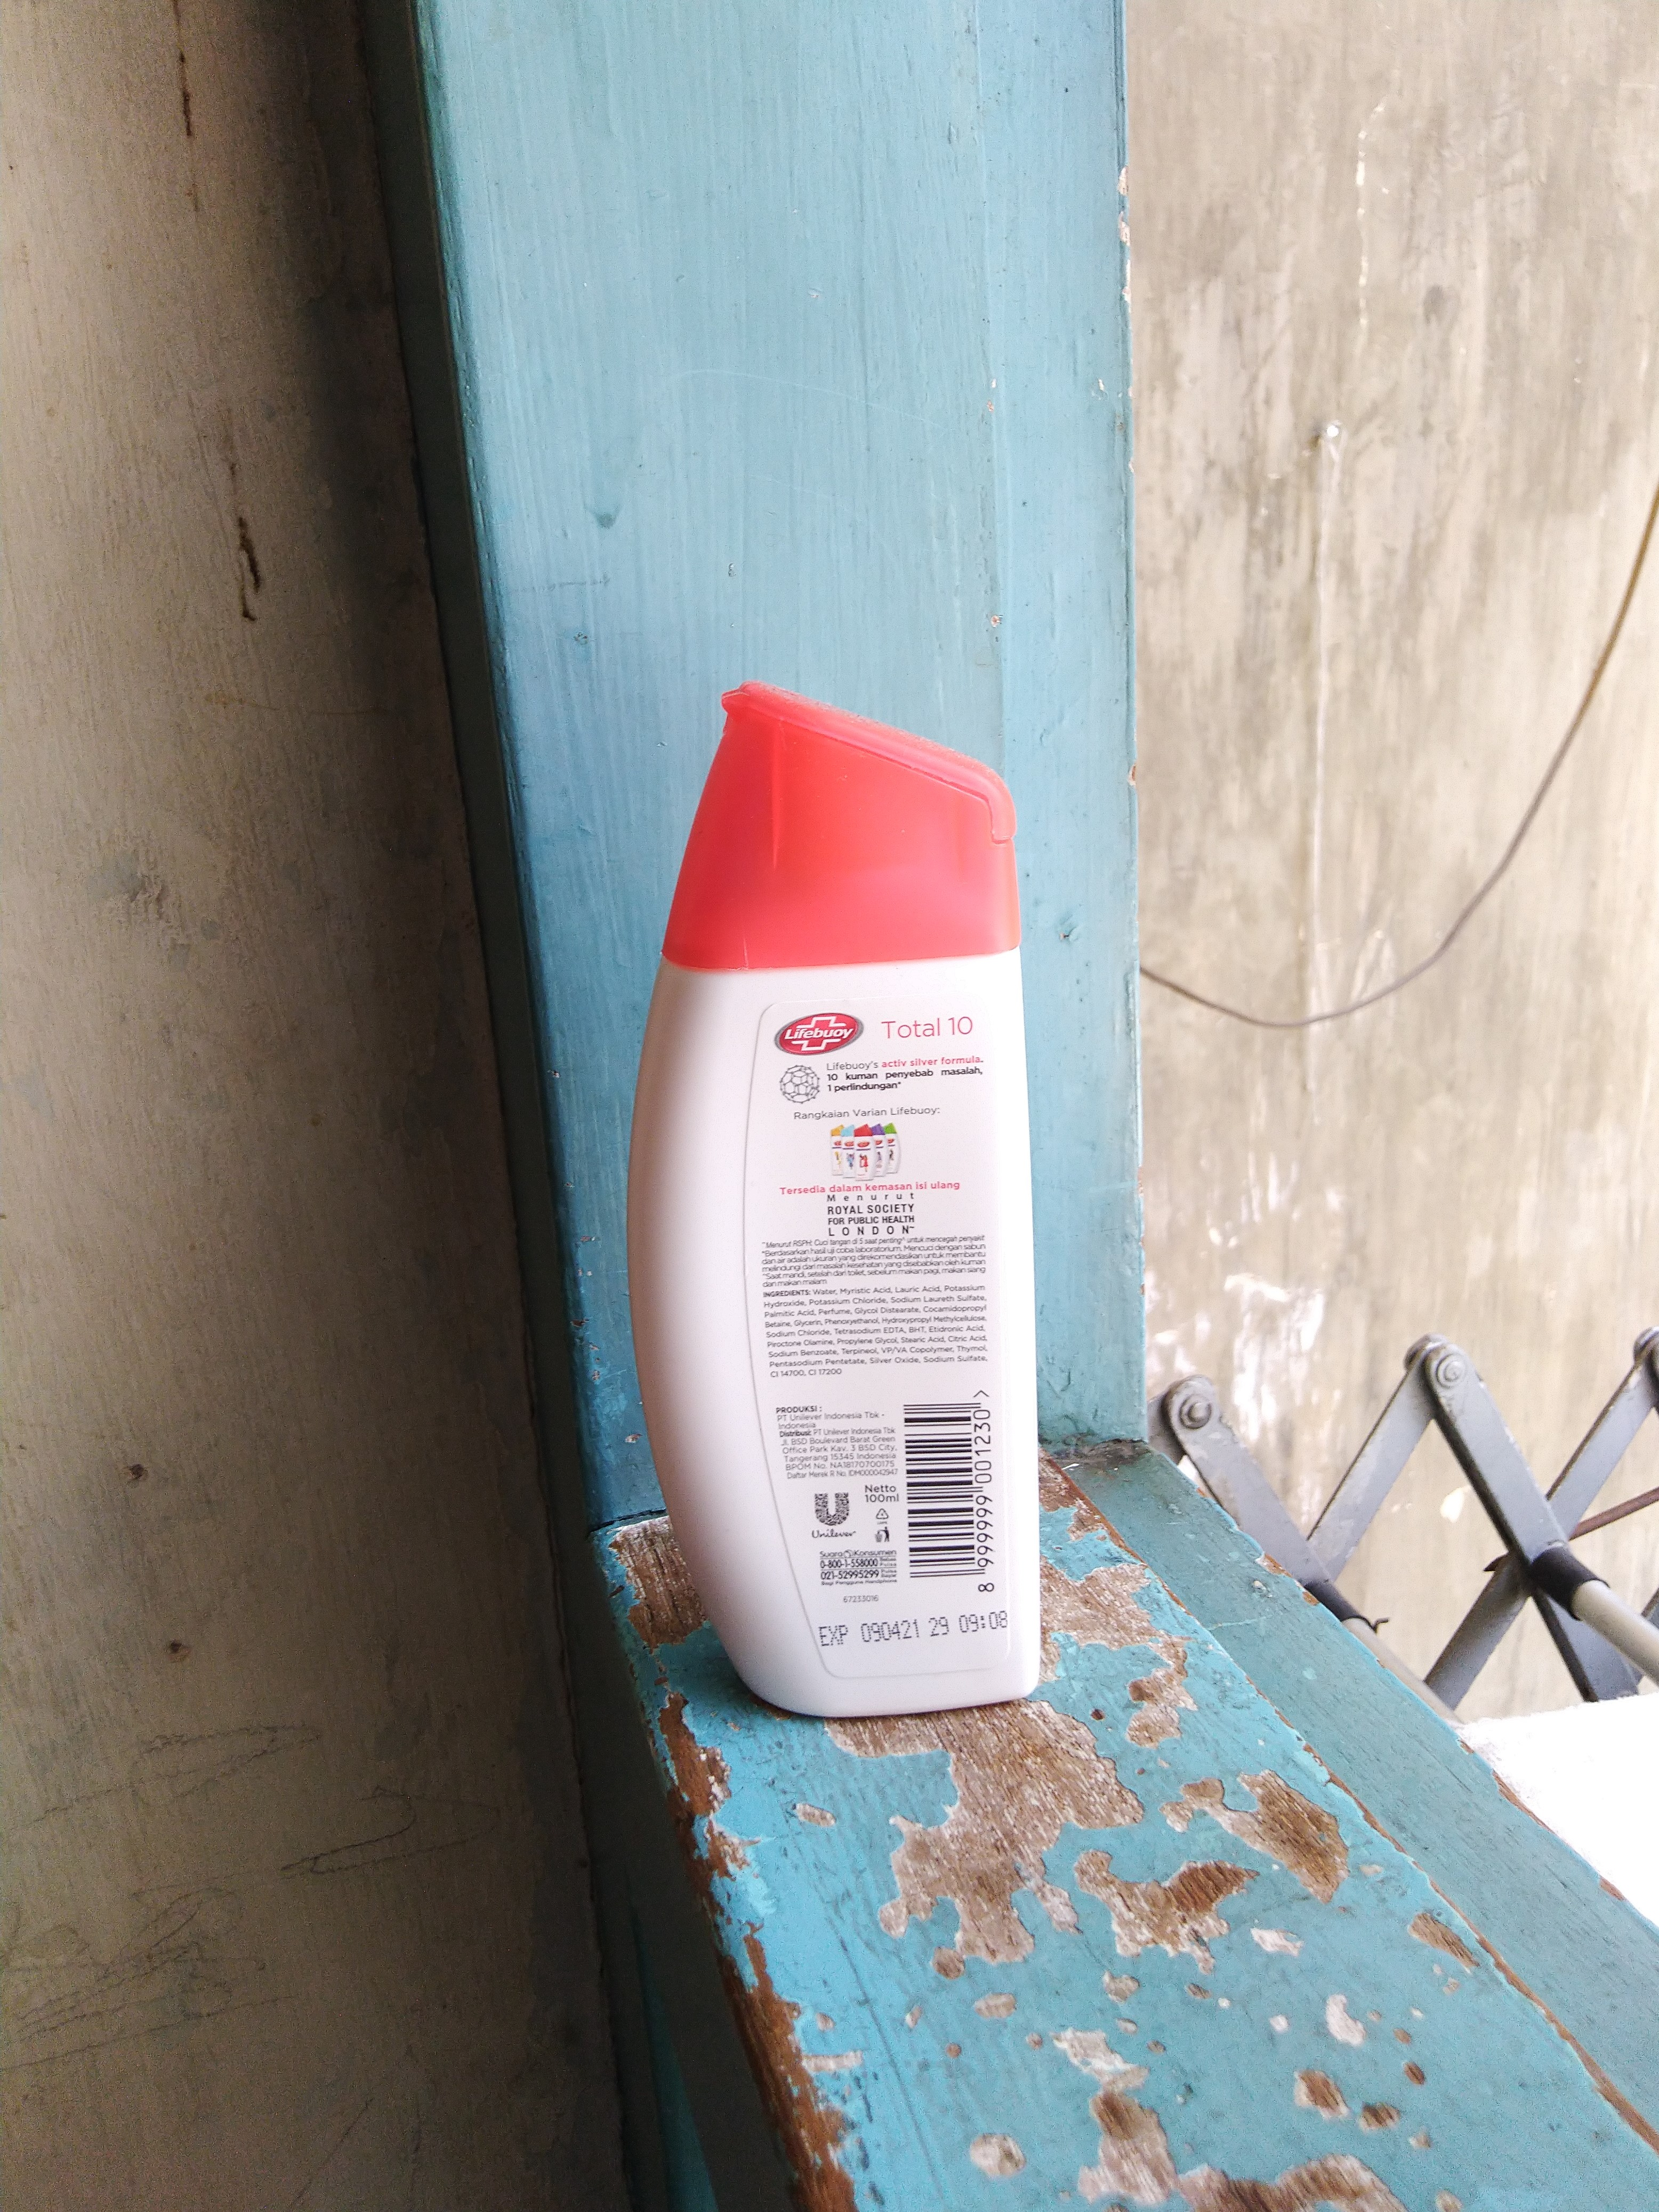HDPE: (624, 676, 1053, 1717)
